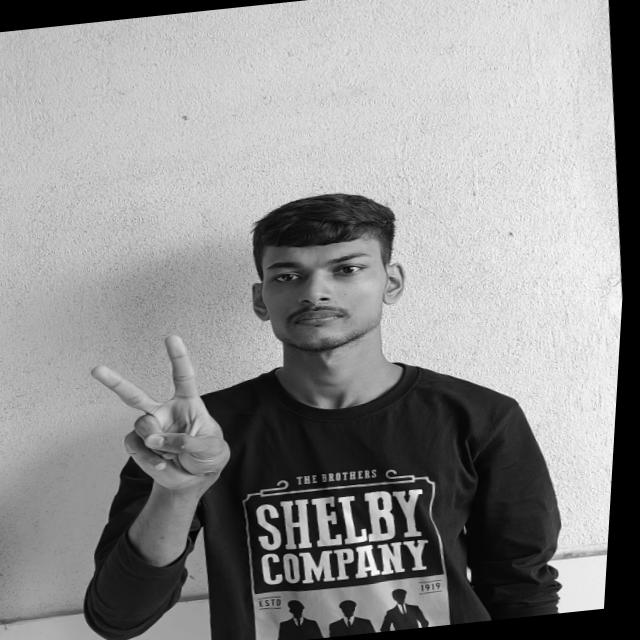Victory: (79, 326, 260, 498)
